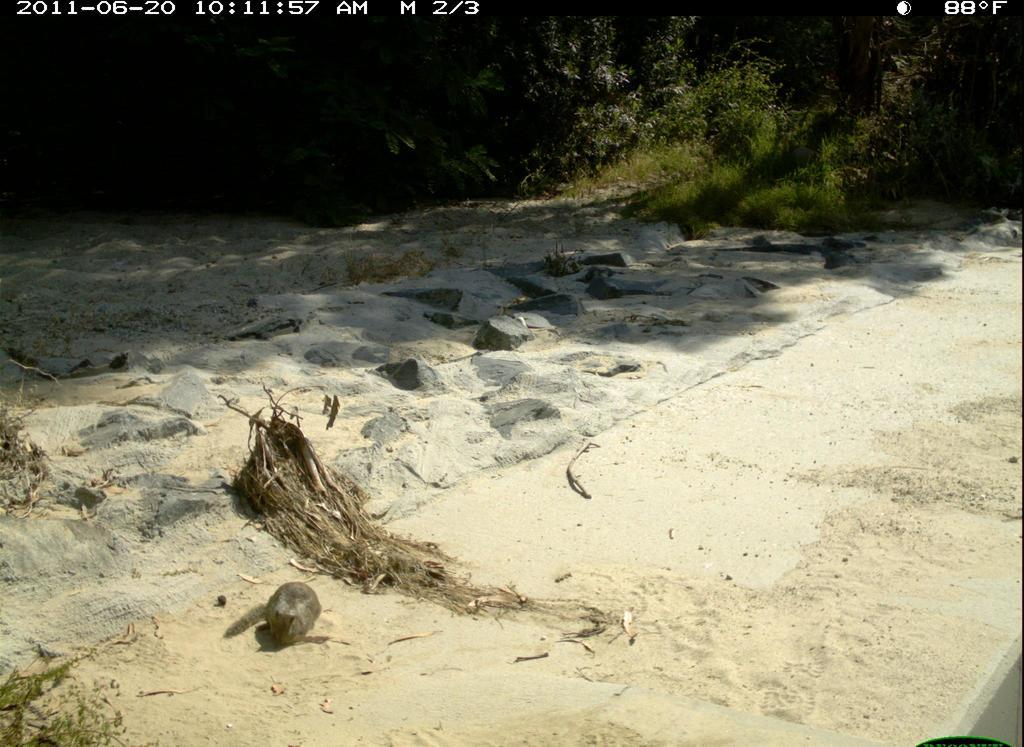squirrel: (217, 561, 325, 655)
